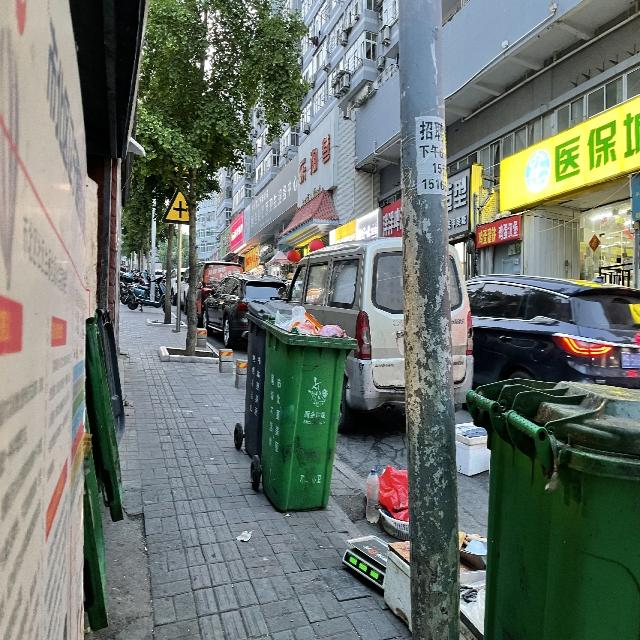garbage_bin: (465, 377, 639, 639), (243, 300, 291, 458)
overflow: (260, 303, 356, 510)
